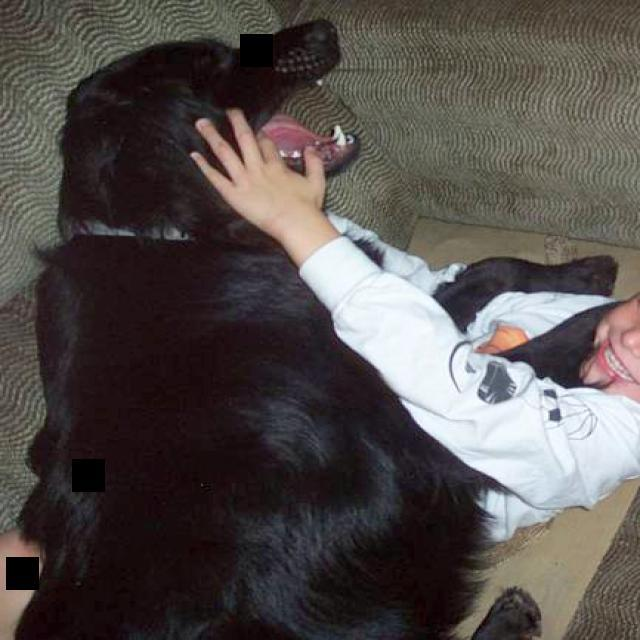adult_dog: (24, 14, 617, 640)
